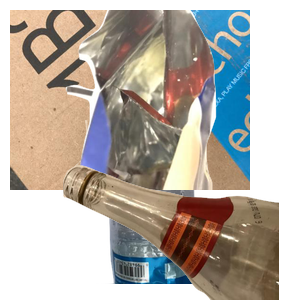cardboard: (10, 10, 250, 190)
glass: (60, 120, 300, 300)
plastic: (96, 120, 285, 300)
trash: (63, 10, 300, 190)
